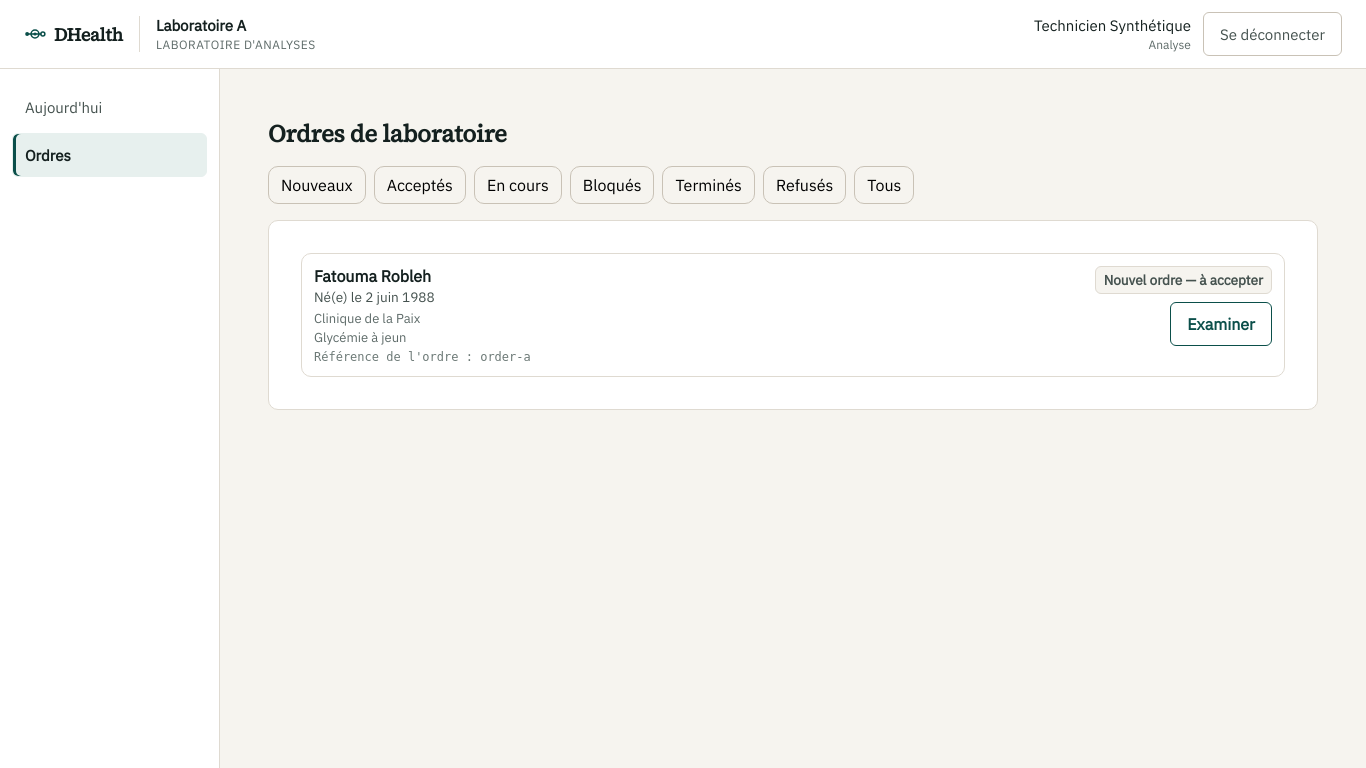
Scenario: LabOrdersPage › A5: an accepted order no longer exposes the Reject control
This screenshot has width=1366, height=768.
Click the button "Examiner" at (1221, 324), box x1=1170 y1=302 x2=1272 y2=346
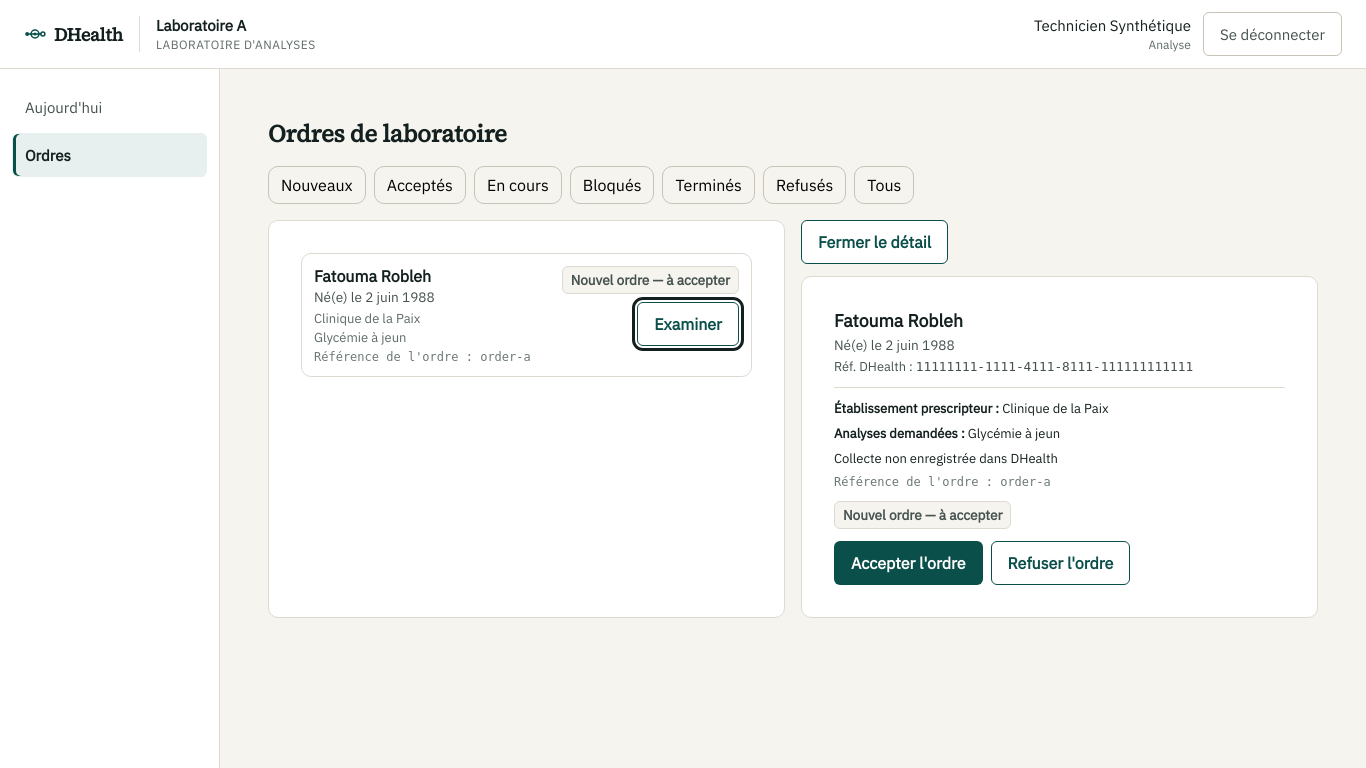
Click the button "Accepter l'ordre" at (908, 563), box x1=834 y1=541 x2=983 y2=585
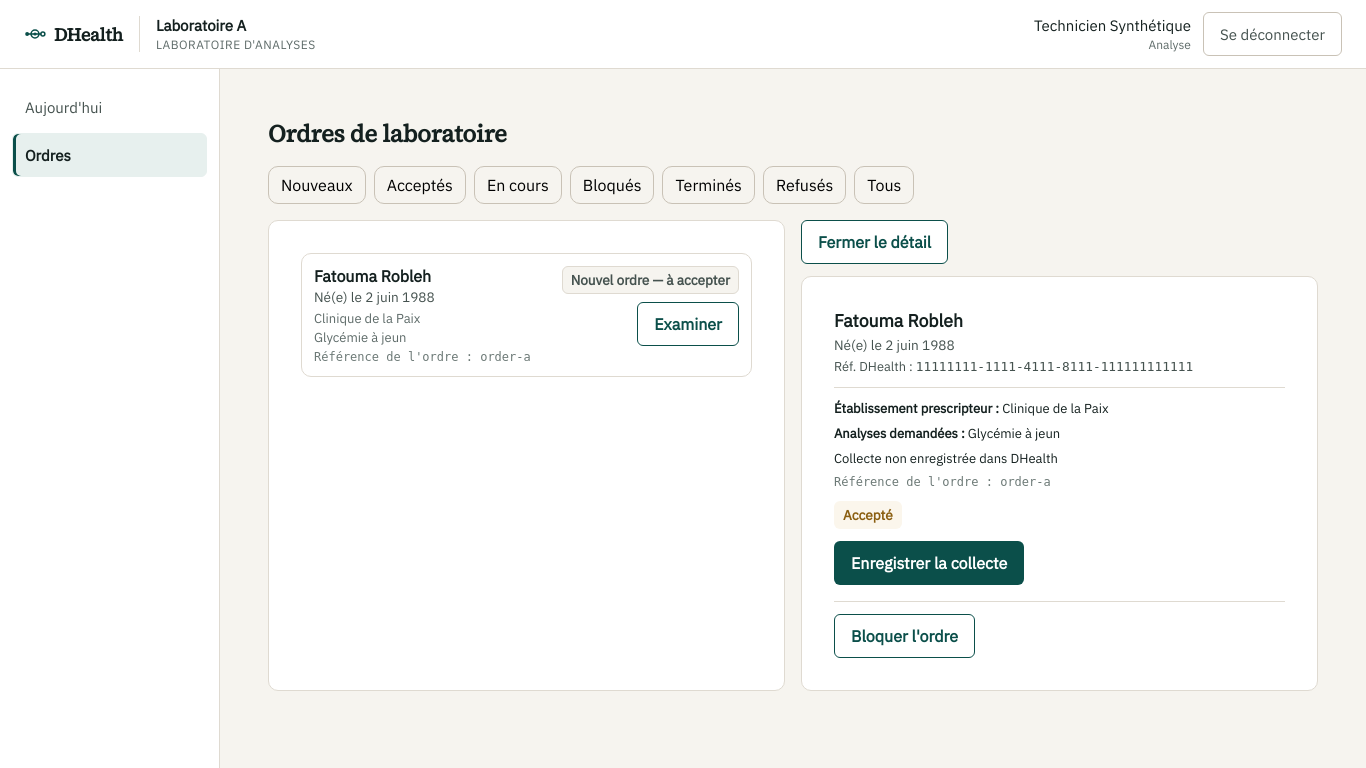
Expected: the button "Refuser l'ordre" is gone
Expected: the button "Accepter l'ordre" is gone
